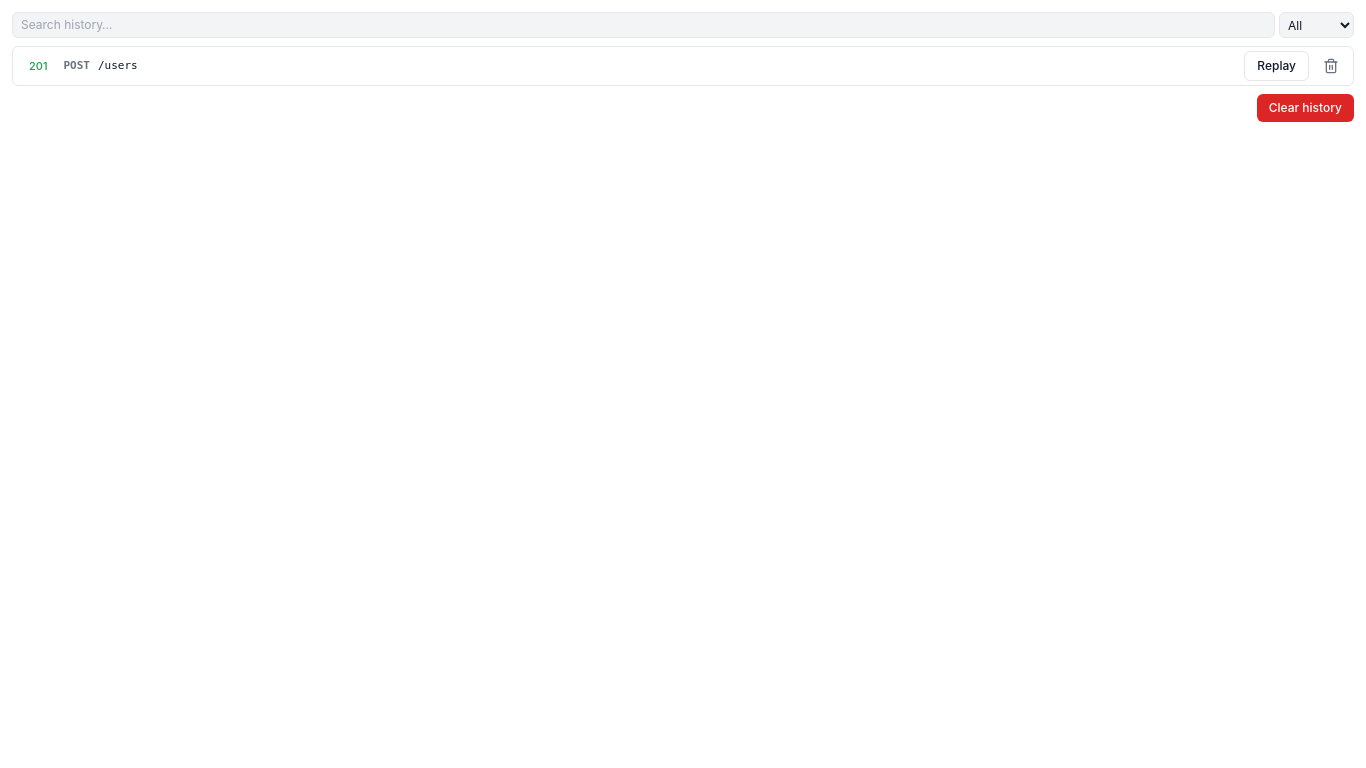
Test: HistoryPanel › opens a tabbed detail inspector, switching between request and response
This screenshot has width=1366, height=768.
expect the text "/users" is shown: met, box [98, 58, 138, 74]
Click the button with aria-label "View post /users details" at (118, 65), box [21, 56, 1236, 76]
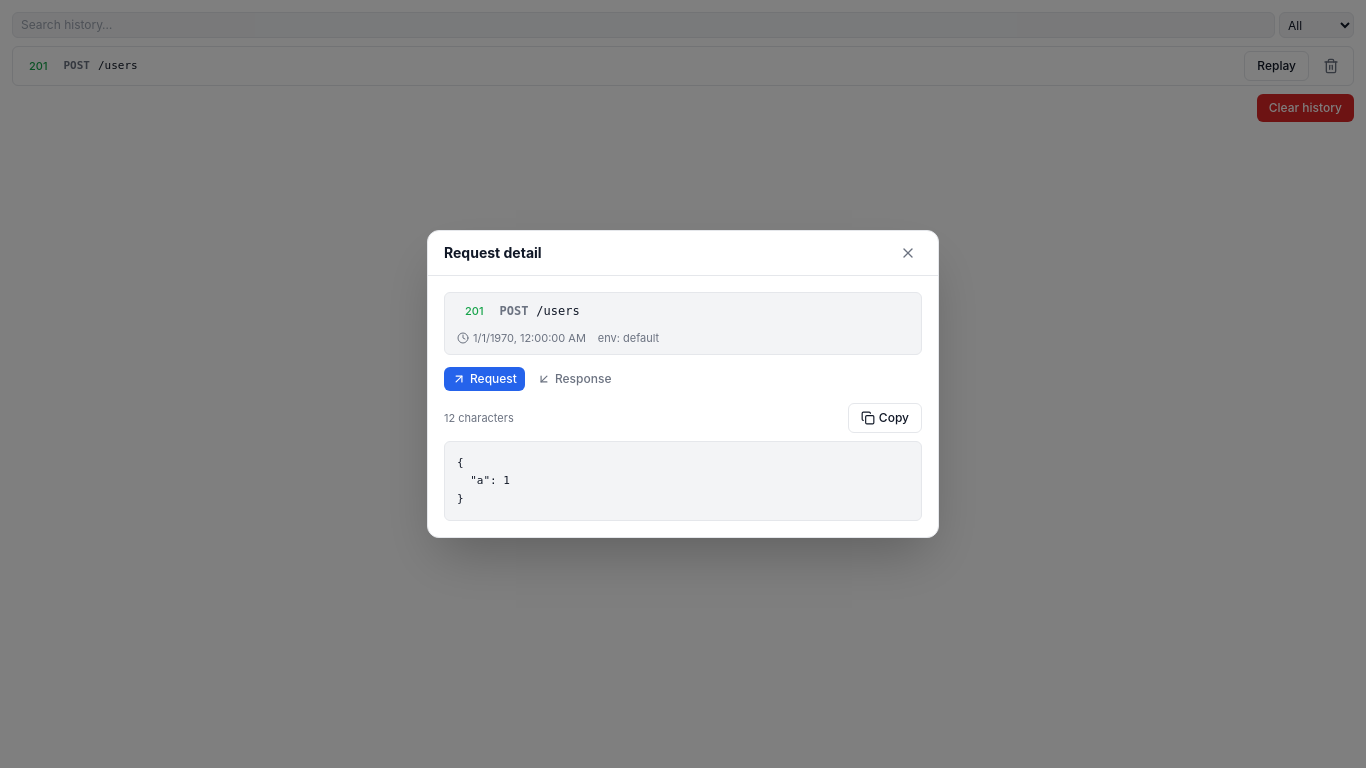
expect the dialog "Request detail" shows "\"a\": 1": met, box [457, 456, 510, 505]
Click the tab "Response" at (574, 379), box [529, 367, 619, 391]
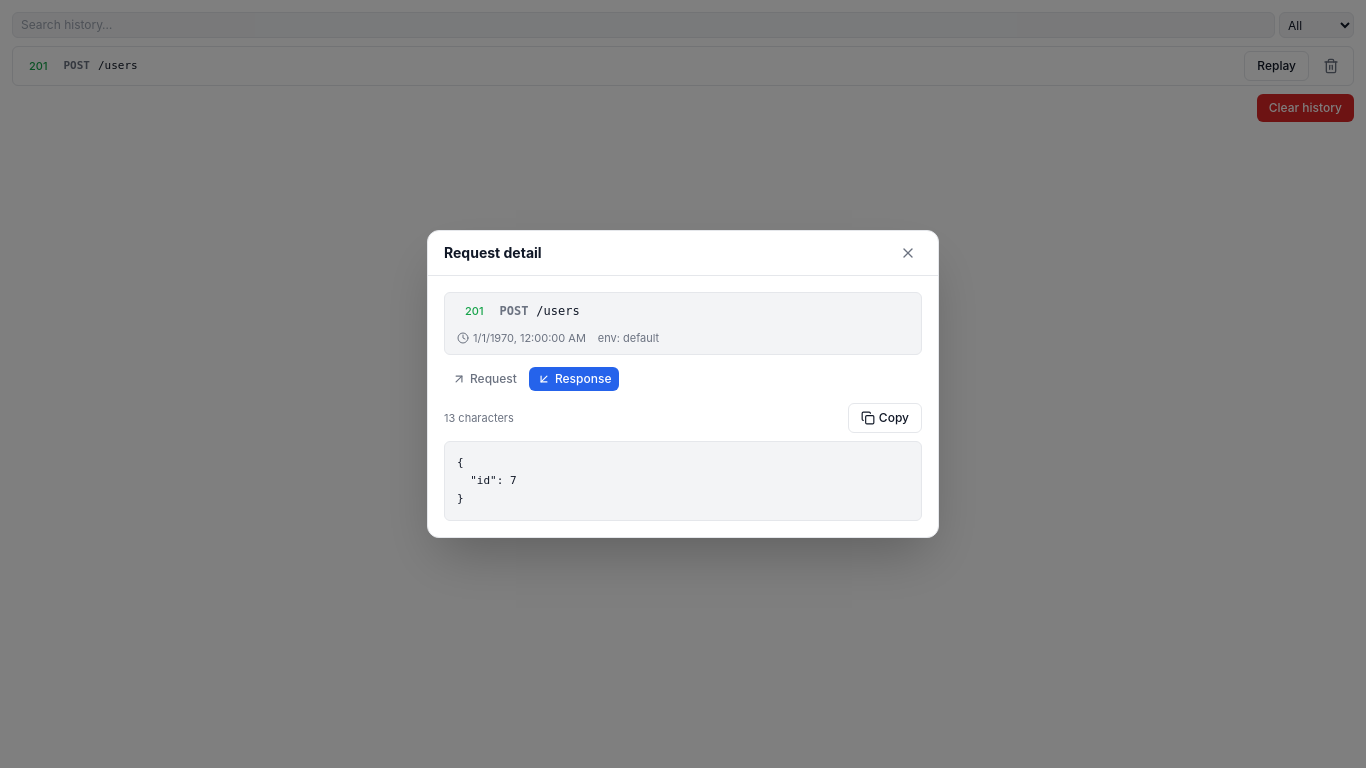
expect the dialog "Request detail" shows "\"id\": 7": met, box [457, 456, 517, 505]
expect the dialog "Request detail" no longer shows "\"a\": 1": met
Click the button named "Close" at (908, 253), box [894, 239, 922, 267]
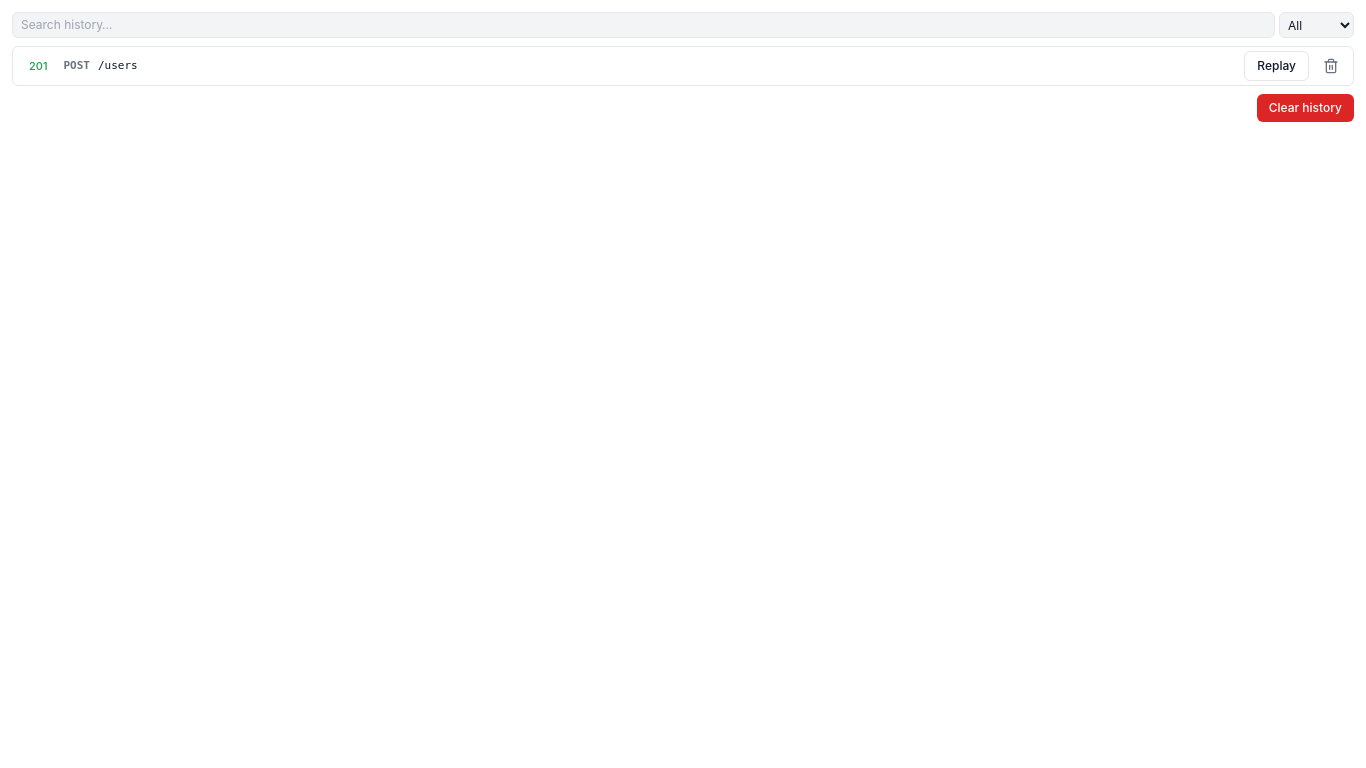
expect the dialog is gone: met
